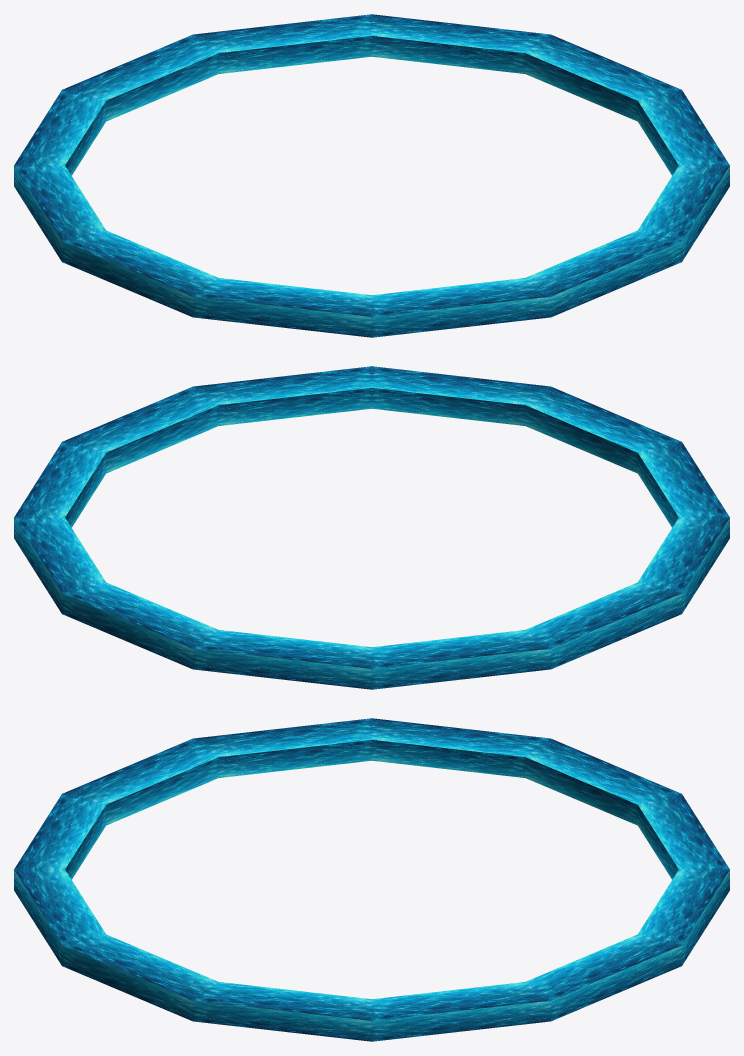
The model's file is mm9_deco_lichengine_innerring.glb.
The picture shows the model from 3 angles, top to bottom: view 1: azimuth 30°, elevation 25°; view 2: azimuth 150°, elevation 25°; view 3: azimuth 270°, elevation 25°; orthographic projection.
Visible parts, largest first — view 1: Lichengine; view 2: Lichengine; view 3: Lichengine.
Part boxes in pixels (box(x1,y1,x2,y2)): Lichengine: box(14, 14, 729, 337); Lichengine: box(14, 366, 729, 689); Lichengine: box(14, 718, 729, 1041).
Size of the model in its own units: 1.86 by 0.06 by 1.86.
Materials: 1 (1 with a texture image).
